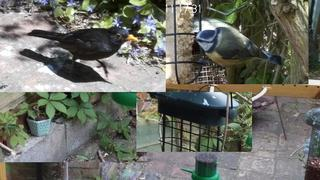blackbird: (27, 27, 139, 82)
blue tit: (192, 27, 282, 66)
